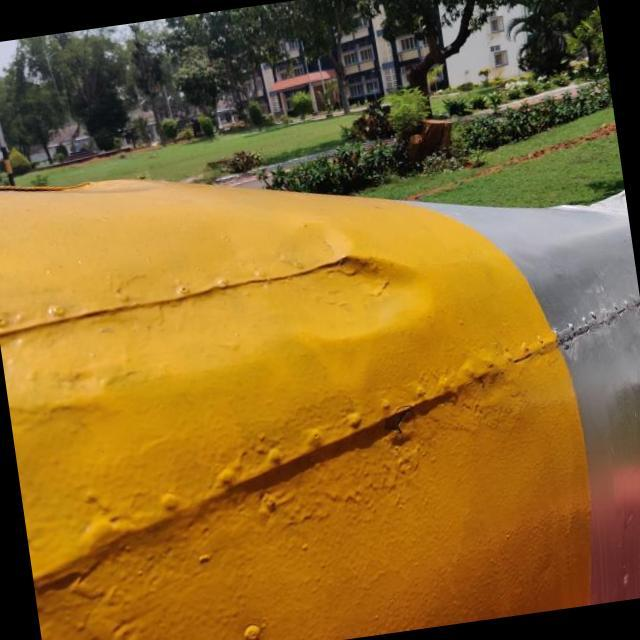Dent: (269, 213, 456, 374)
